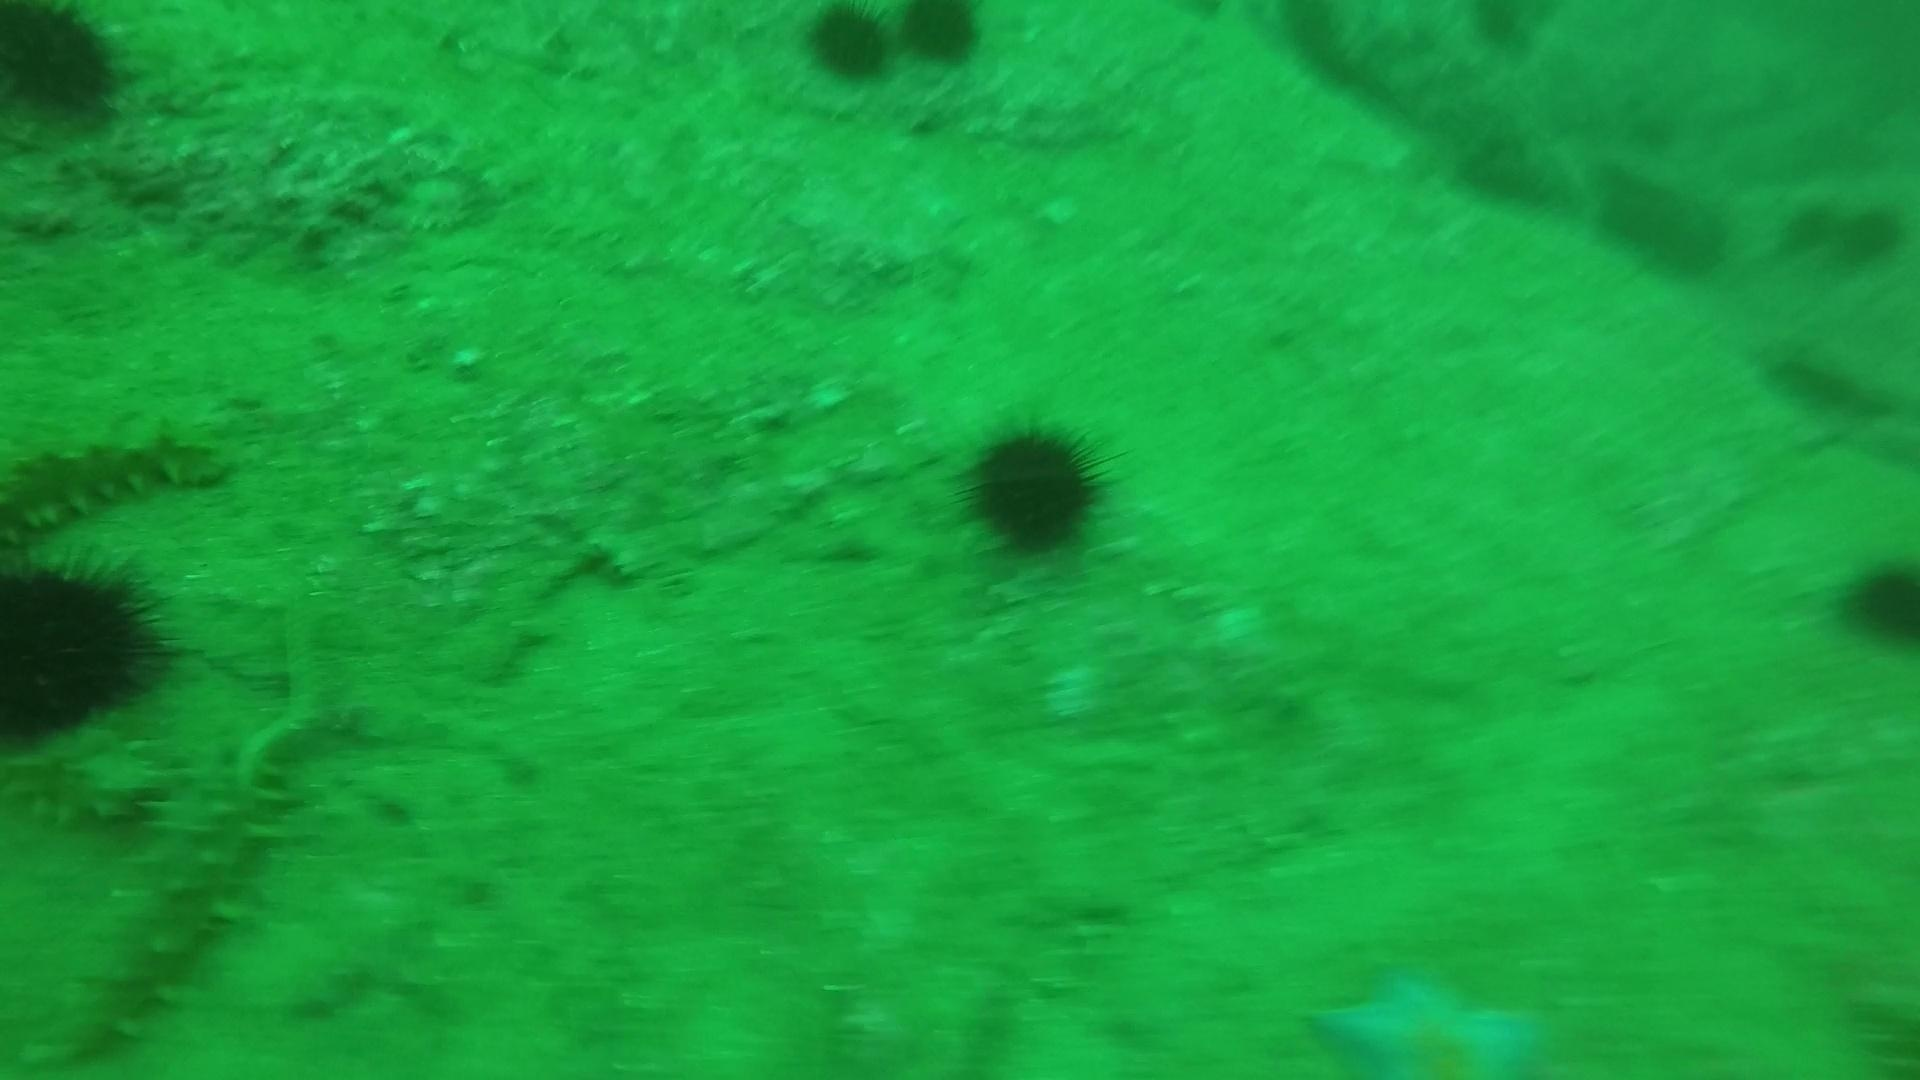echinus: (1, 545, 178, 748), (953, 411, 1121, 563), (1, 1, 133, 128), (796, 1, 902, 91), (1833, 547, 1919, 651), (891, 1, 990, 73), (1836, 203, 1908, 282), (1785, 189, 1844, 257)
holothurian: (44, 687, 295, 1065), (1, 411, 237, 549)
starfish: (1303, 953, 1559, 1077)
